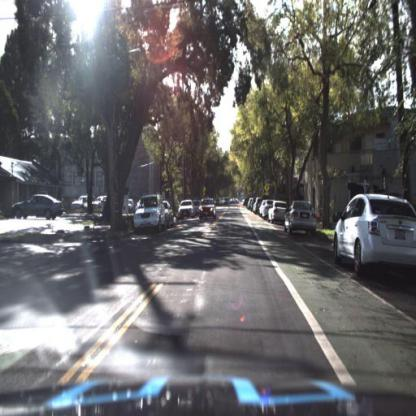car: (330, 182, 416, 294), (330, 190, 416, 273), (9, 189, 66, 229), (283, 197, 323, 242), (13, 190, 64, 222), (134, 195, 165, 234), (286, 204, 317, 235), (197, 197, 218, 223), (268, 198, 288, 224), (160, 198, 177, 224), (269, 200, 286, 226), (199, 198, 217, 220), (177, 199, 195, 220), (128, 193, 137, 214)
